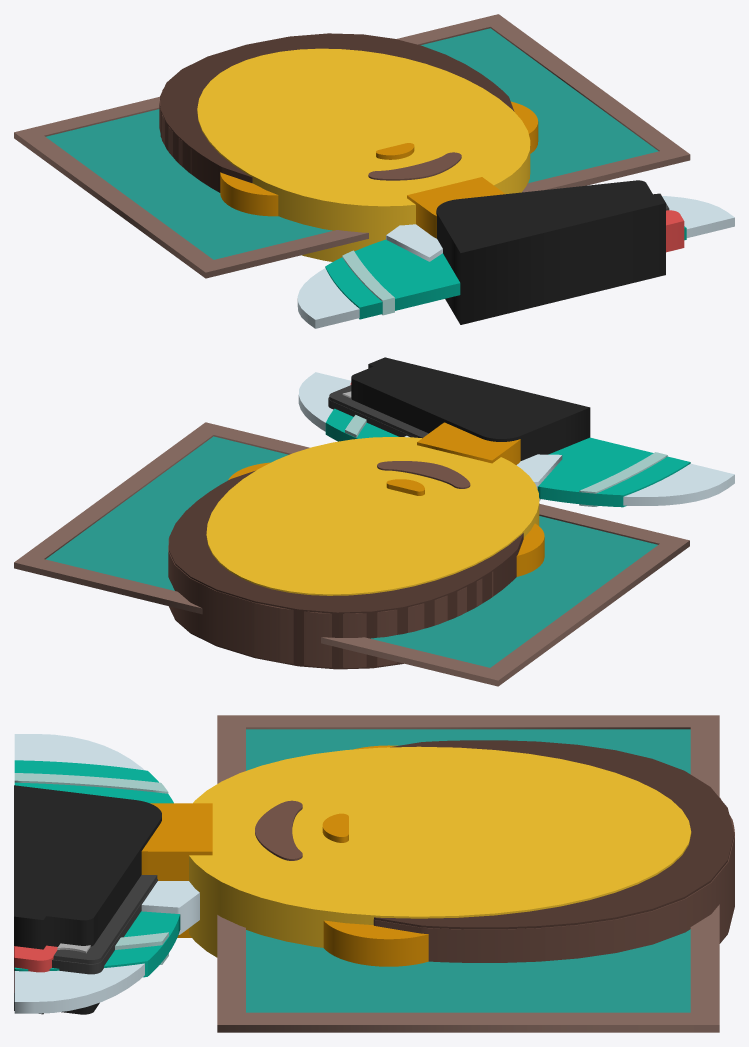
The model's file is emoji_u1f468_200d_1f3eb.glb.
The picture shows the model from 3 angles, top to bottom: view 1: azimuth 30°, elevation 25°; view 2: azimuth 150°, elevation 25°; view 3: azimuth 270°, elevation 25°; orthographic projection. The views are drawn at different scales.
Visible parts, largest first — view 1: emoji_u1f468_200d_1f3eb; view 2: emoji_u1f468_200d_1f3eb; view 3: emoji_u1f468_200d_1f3eb.
Part boxes in pixels (<box>): emoji_u1f468_200d_1f3eb: <box>14,14,734,328</box>; emoji_u1f468_200d_1f3eb: <box>14,357,734,686</box>; emoji_u1f468_200d_1f3eb: <box>14,715,734,1032</box>.
Size of the model in its own units: 0.0338 by 0.0048 by 0.0333.
